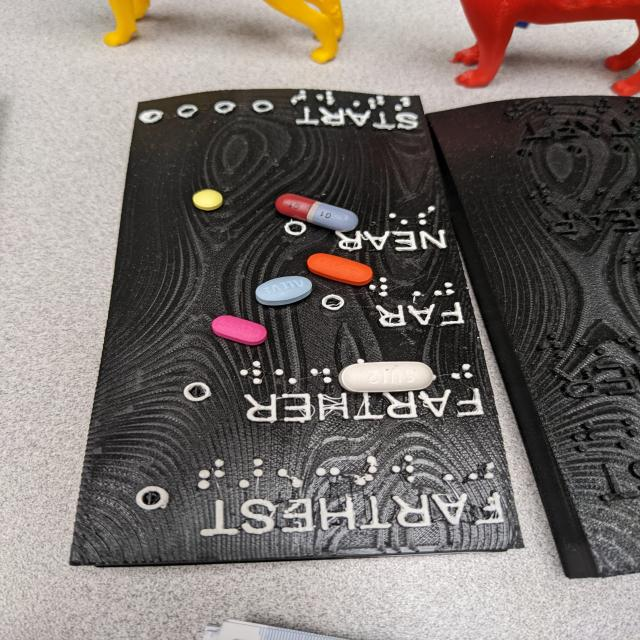non-organic waste: (274, 192, 360, 232), (337, 360, 434, 393), (306, 251, 374, 288), (253, 274, 314, 306), (211, 314, 268, 346), (191, 189, 225, 211)
